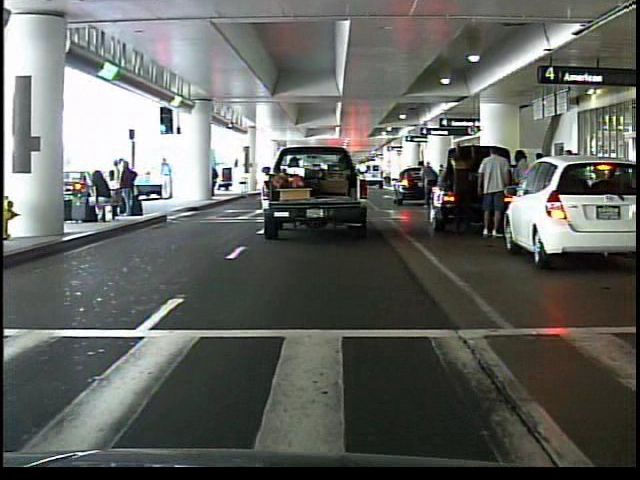person: (446, 139, 480, 238), (474, 144, 507, 240), (509, 146, 533, 238), (417, 158, 441, 208), (160, 156, 177, 200)
